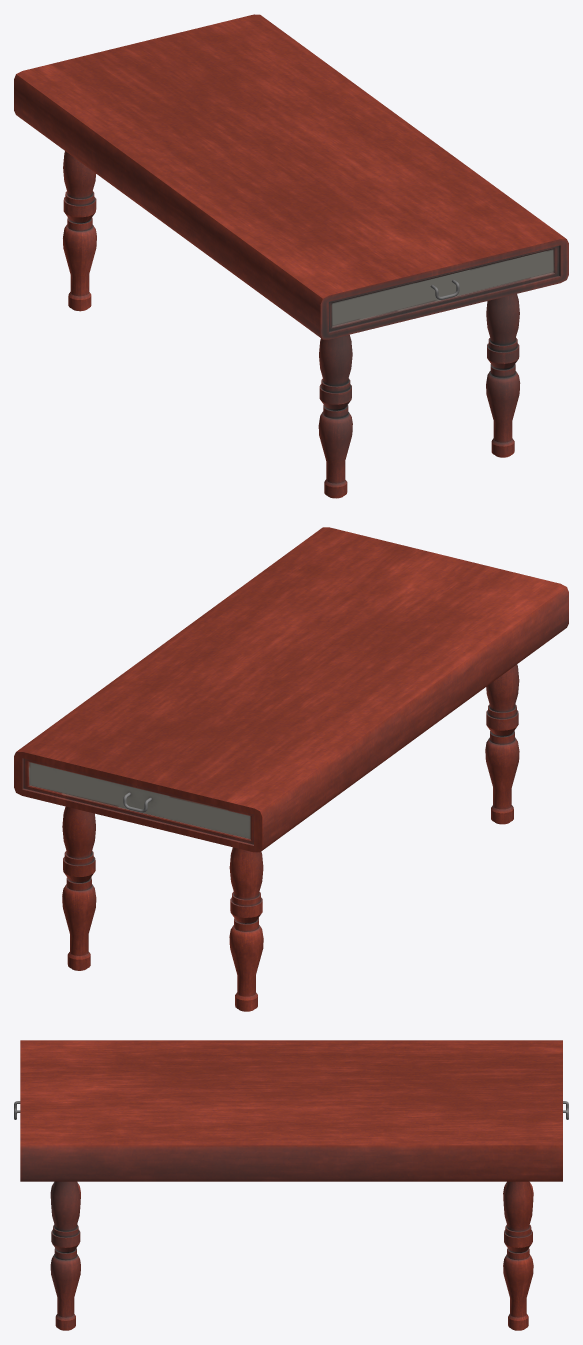
The model's file is SM_Wooden_Desk.fbx.
3 views of the same model, one above another, from view 1: azimuth 30°, elevation 25°; view 2: azimuth 150°, elevation 25°; view 3: azimuth 270°, elevation 25° (orthographic). The views are drawn at different scales.
Parts seen in each view (by area): view 1: SM_Wooden_Desk; view 2: SM_Wooden_Desk; view 3: SM_Wooden_Desk.
Part boxes in pixels (<box>): SM_Wooden_Desk: <box>14,14,568,498</box>; SM_Wooden_Desk: <box>14,527,568,1011</box>; SM_Wooden_Desk: <box>14,1040,568,1330</box>.
Size of the model in its own units: 77.53 by 170 by 67.48.
1 material, 1 textured.
